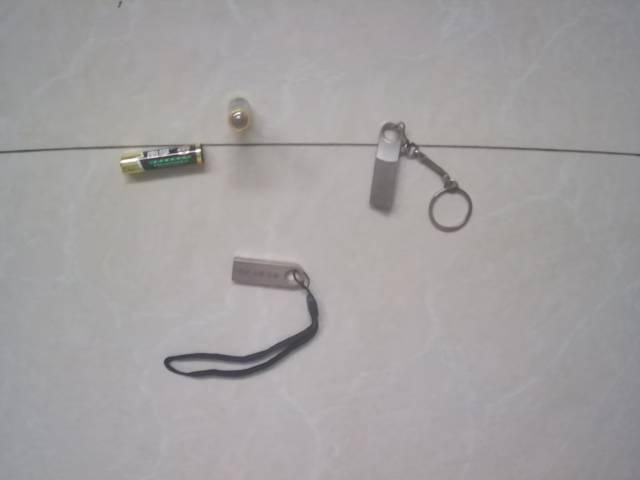U-disk: (163, 249, 324, 389), (369, 115, 473, 238)
battery: (114, 145, 210, 178), (222, 88, 260, 137)
